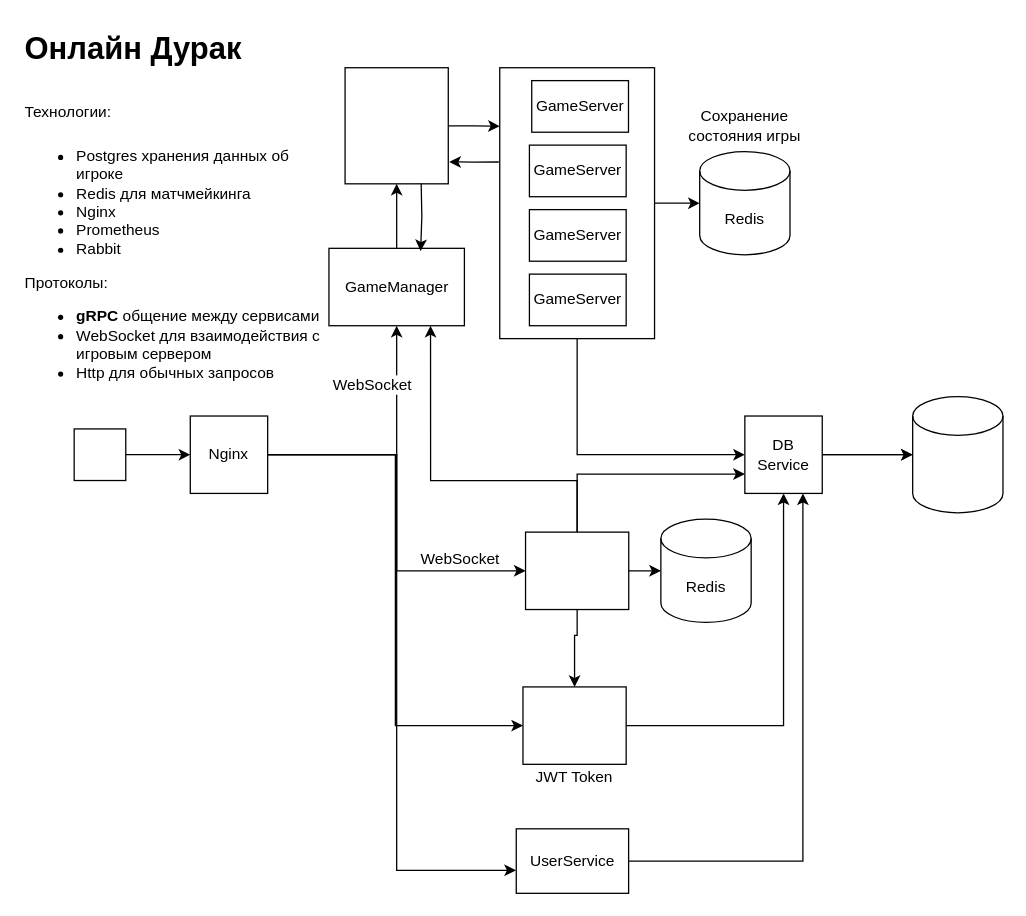
Some shapes in this 1026 by 916 pixel diagram are drawn without their labels. Here are the shapes that lost their labels. From the top down, the centre of each, then its label:
At point (396, 125): "Rabbit".
At point (99, 454): "Client".
At point (957, 454): "Postgres SQL".
At point (576, 570): "Matchmaker".
At point (574, 725): "Authorization".
